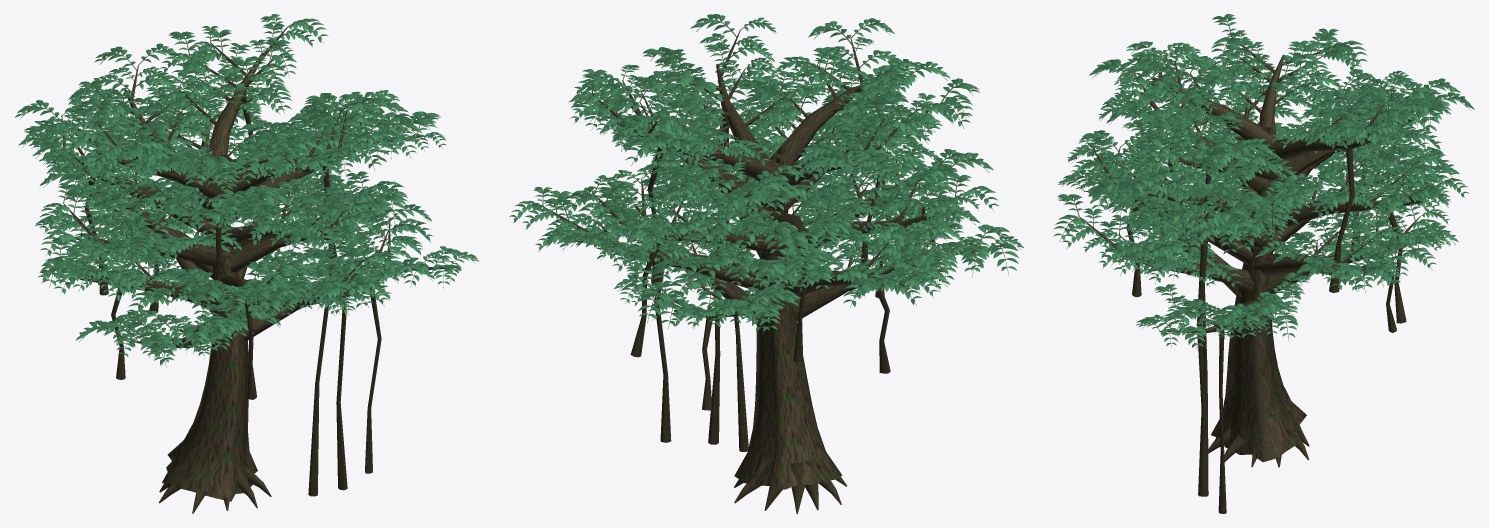
File: Veil Banyan.glb
3 views of the same model, side by side, from view 1: azimuth 30°, elevation 25°; view 2: azimuth 150°, elevation 25°; view 3: azimuth 270°, elevation 25° (orthographic). The views are drawn at different scales.
Parts seen in each view (by area): view 1: Veil Banyan; view 2: Veil Banyan; view 3: Veil Banyan.
Boxes of the visible parts, <box> form: Veil Banyan: <box>15,14,479,513</box>; Veil Banyan: <box>509,14,1023,513</box>; Veil Banyan: <box>1053,14,1474,513</box>.
Bounding box in the file's own units: 23.61 × 22.89 × 22.52.
3 materials, 1 textured.
